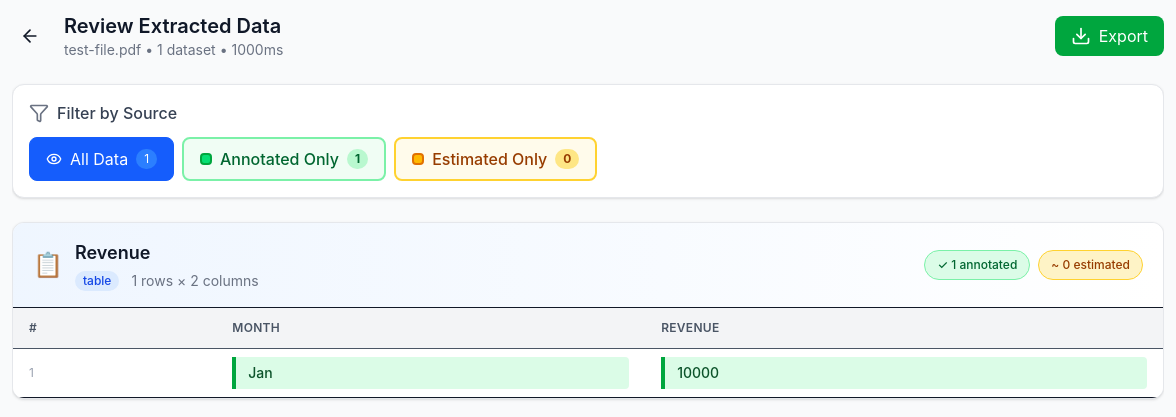
Additional page tests › ReviewPage cell edit updates displayed value
Click the text "Jan" at (431, 373), box [232,357,629,389]
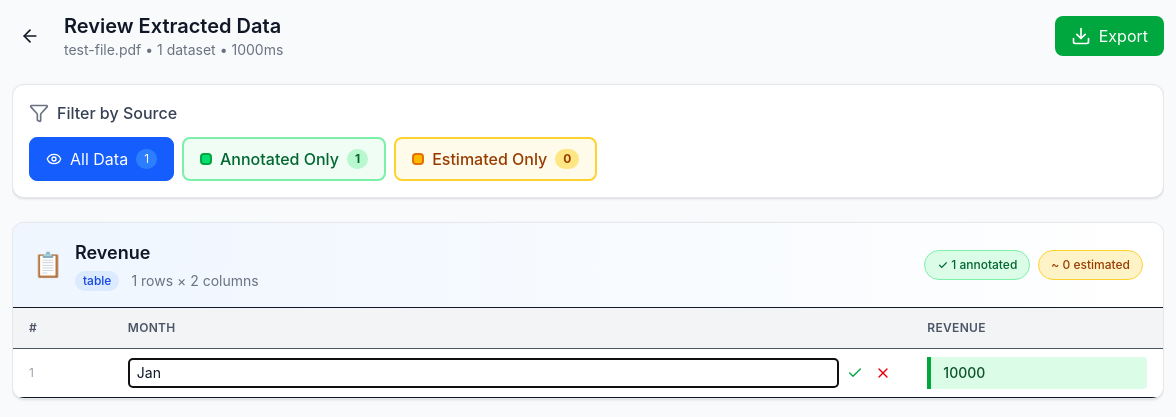
Replace the text in the field showing "Jan" with "Jan-Edited" at (484, 373), box [128,358,839,388]
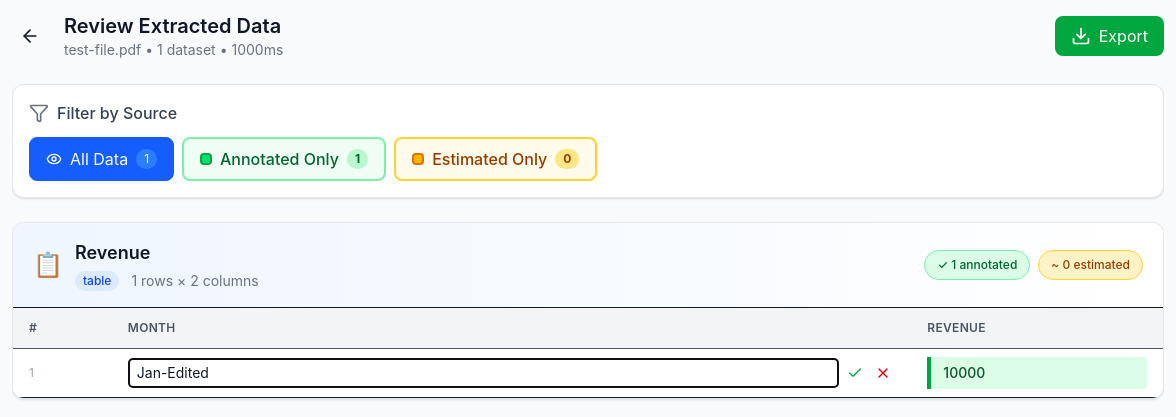
Press Enter in the field showing "Jan", box [128,358,839,388]
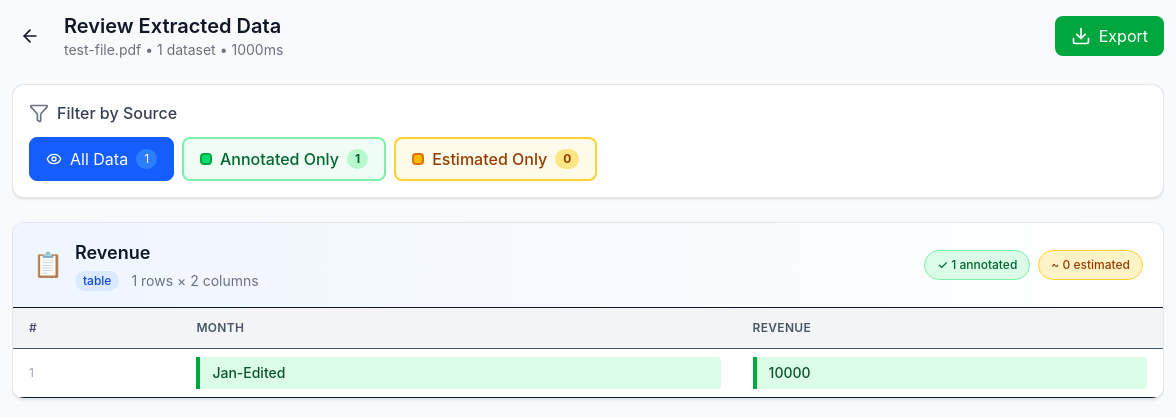
Expected: the text "Jan-Edited" is shown, [196,357,721,389]
